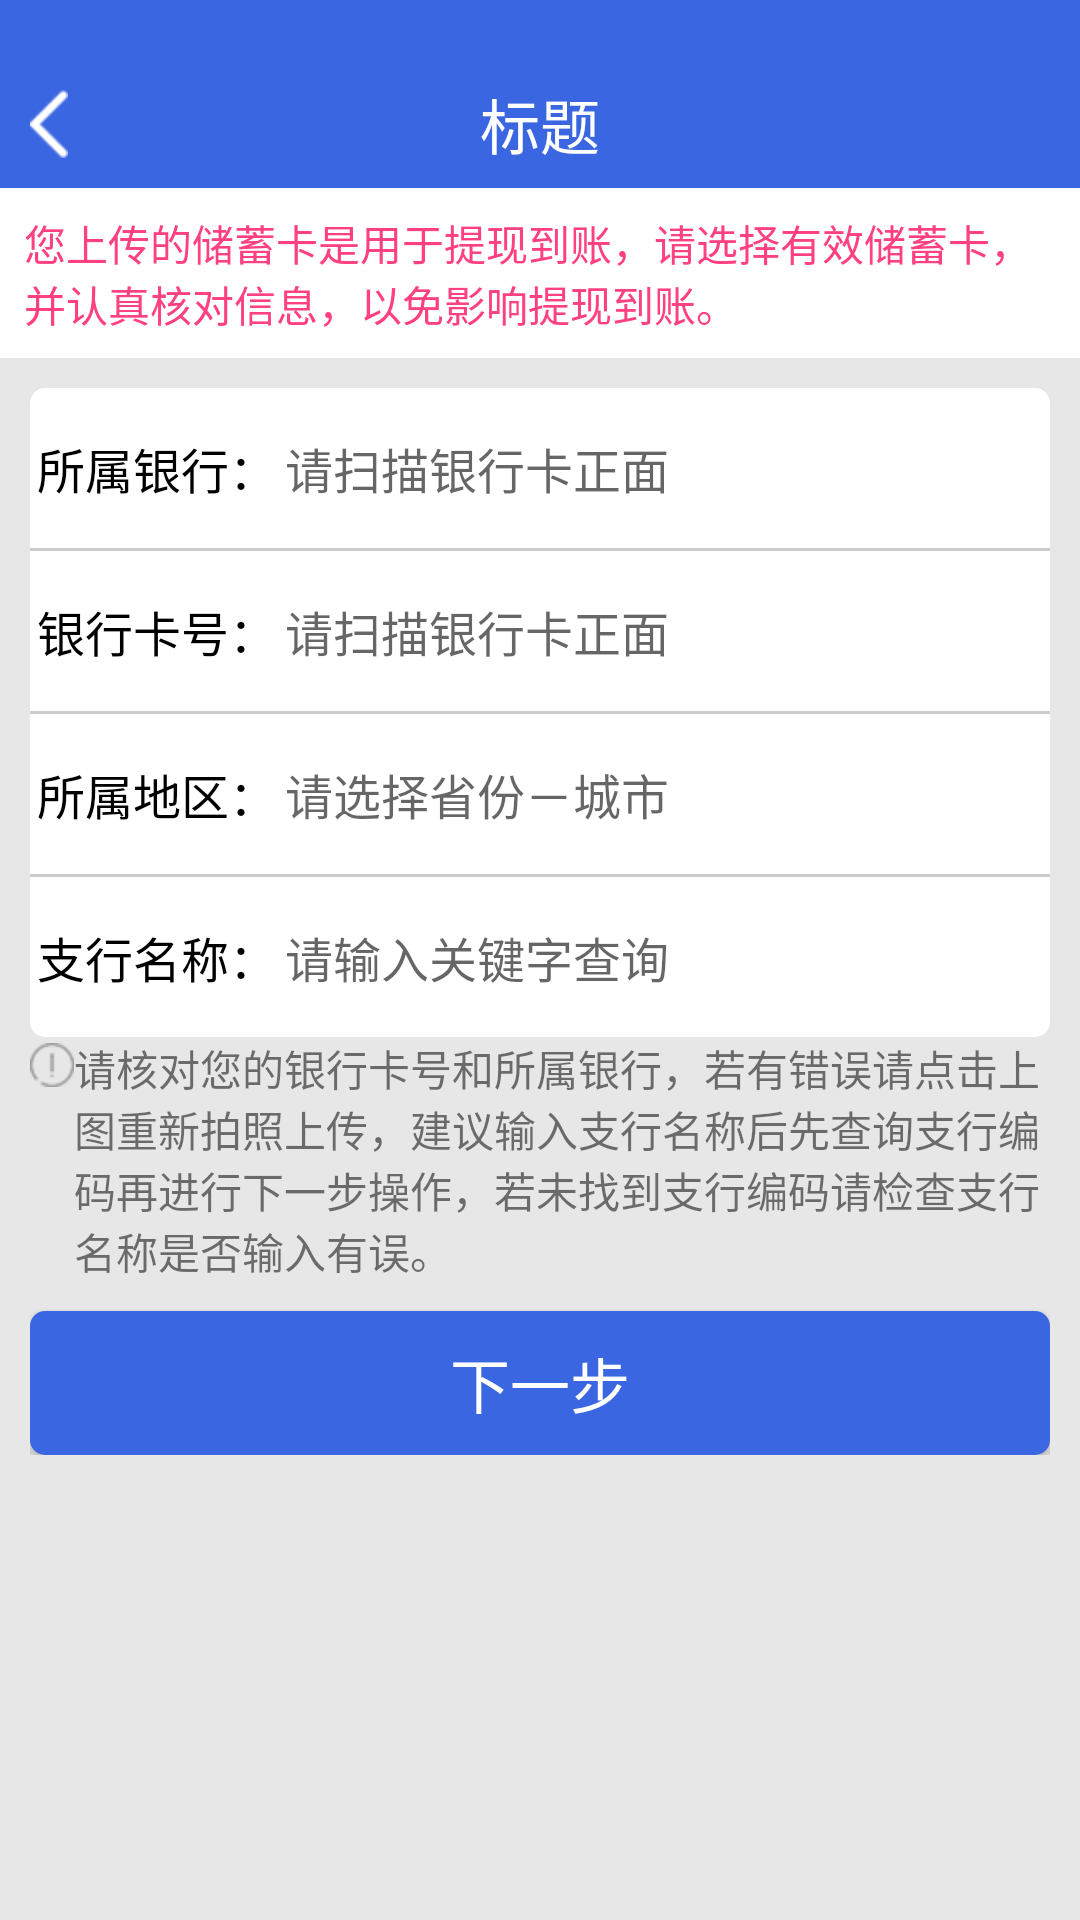

Where icons sit on this 1080x1920 app screen, as (x1, y1, x2, y2):
chevron left: (30, 90, 68, 158)
warn: (30, 1043, 74, 1087)
